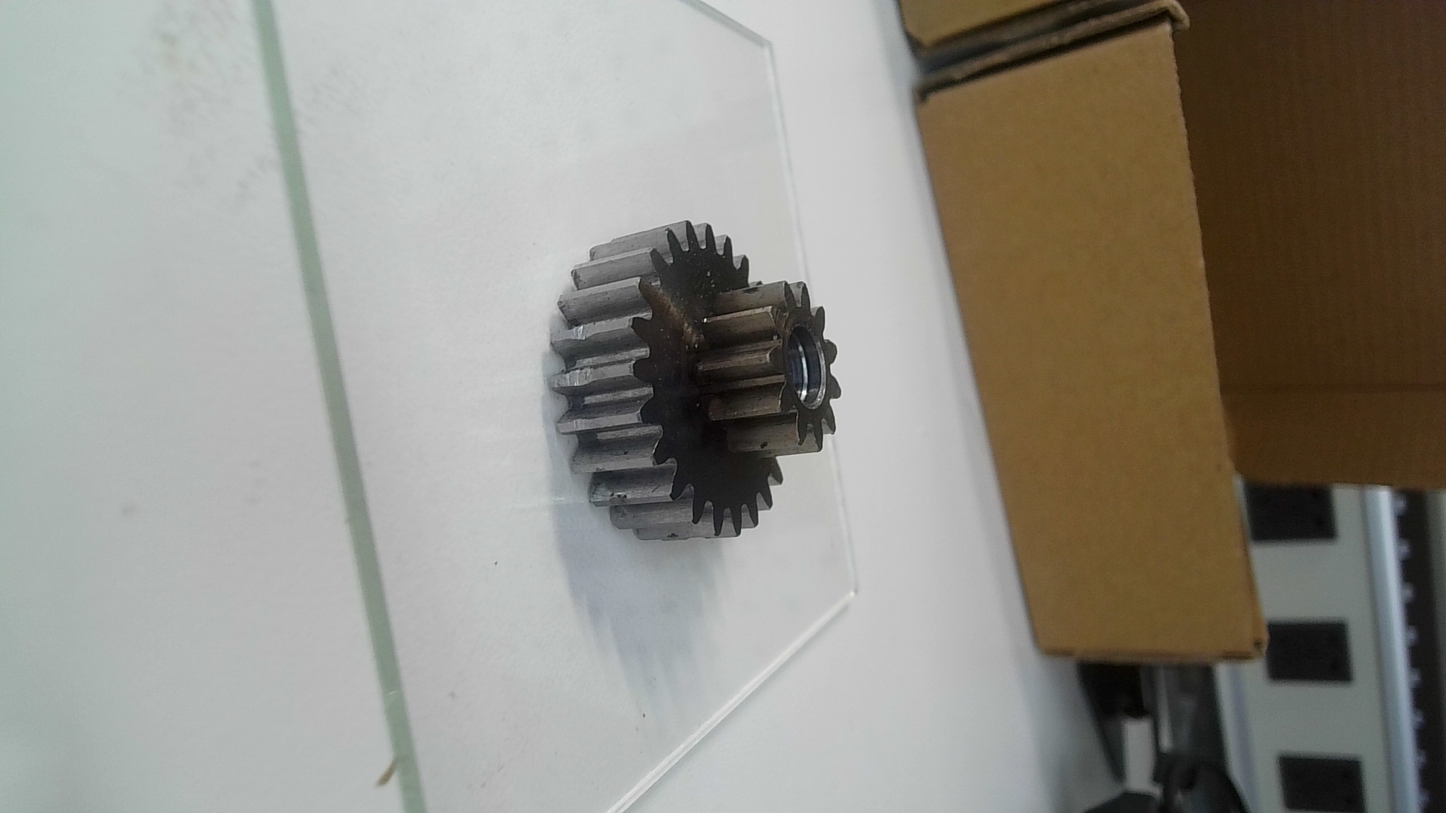gear: (538, 207, 848, 557)
